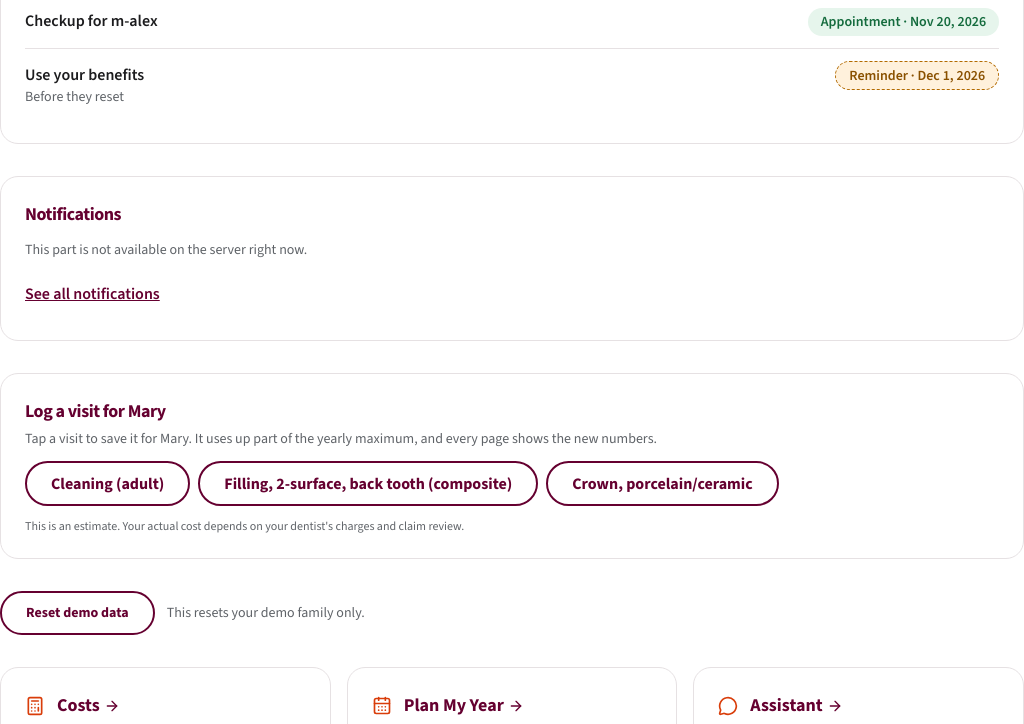
Test: Home page › shows You pay from the real flat response for D1110 and never NaN
This screenshot has width=1024, height=724.
(page scrolled)
What coordinates should you click on to do the following:
click the button with aria-label "Log Cleaning (adult)"
I would click on:
 (108, 484)
Its box is [25, 461, 190, 506].
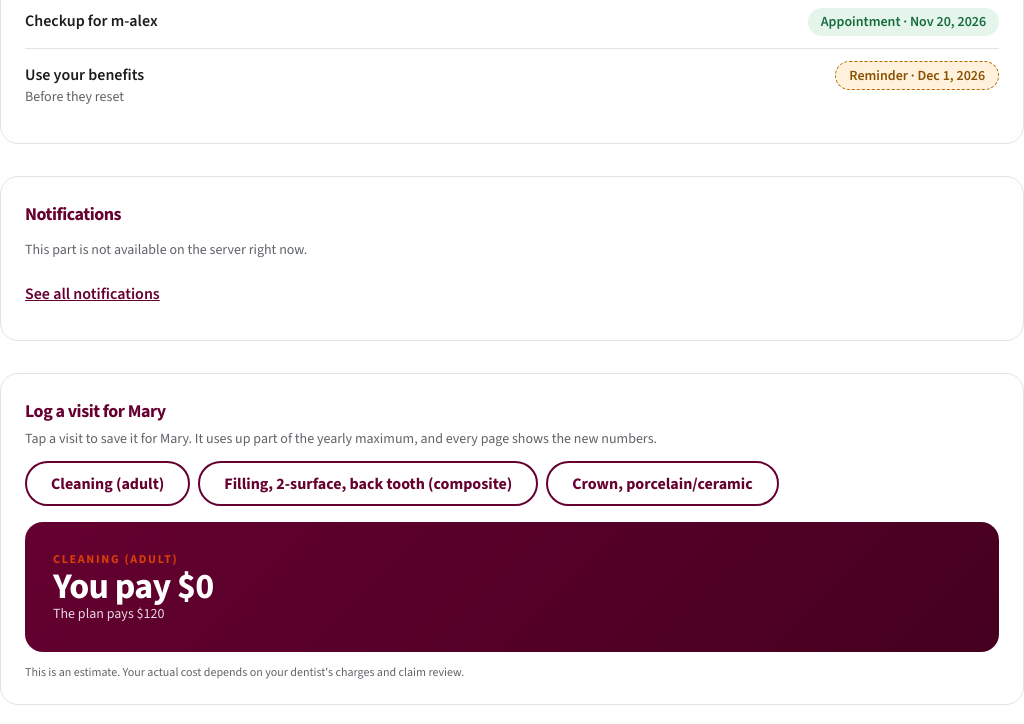
expect the element with test id "visit-result" does not show "NaN": met, box [25, 522, 999, 652]
expect the element with test id "visit-result" shows "You pay $0": met, box [25, 522, 999, 652]
